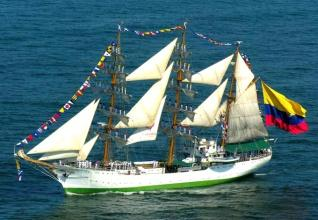fanchuan: (9, 20, 305, 191)
